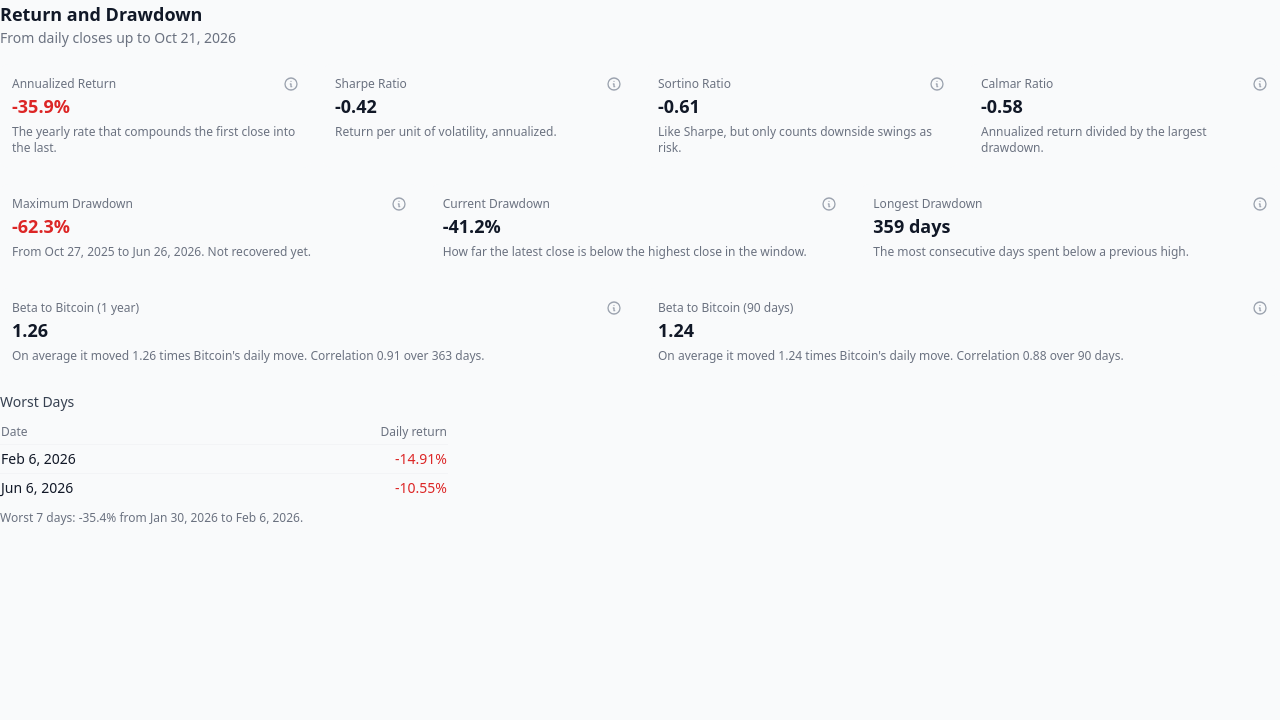
Scenario: PerformancePanel › states the risk-free rate in the ratio details
Click the button named "About Sharpe Ratio" at (614, 84), box left=606, top=76, right=622, bottom=92
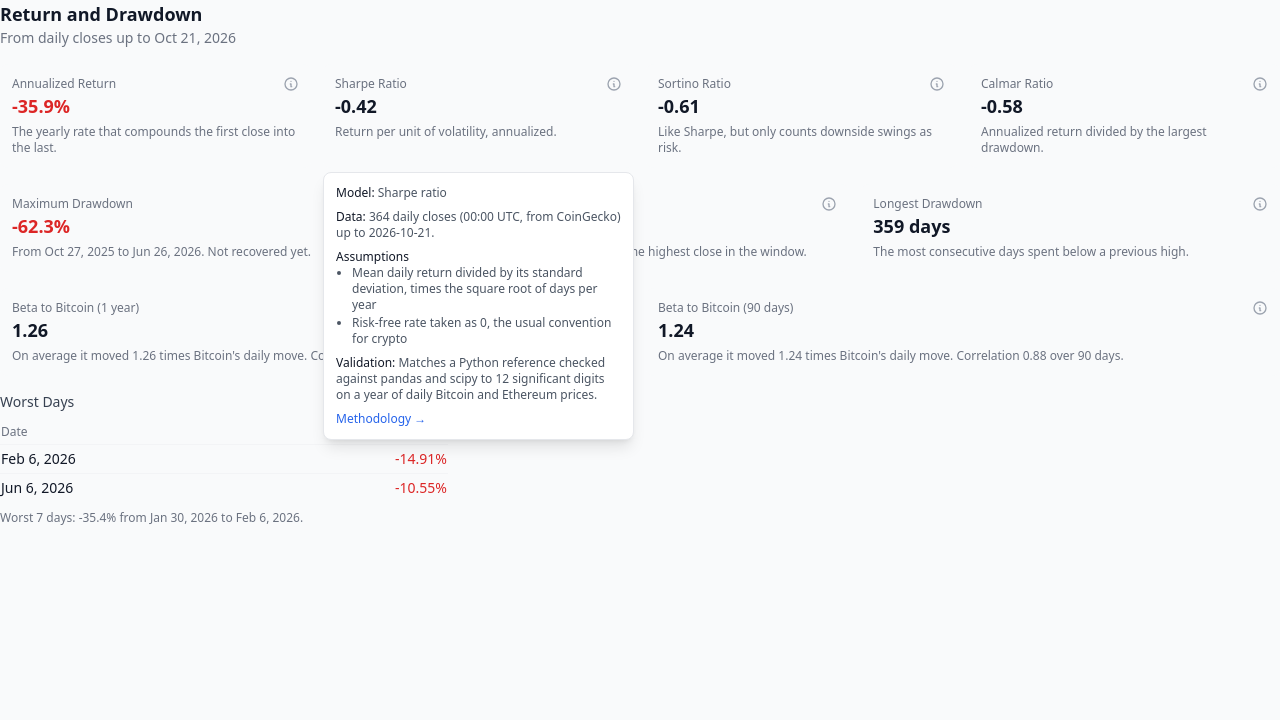
expect the dialog shows "Risk-free rate taken as 0": met, box left=352, top=314, right=611, bottom=347
